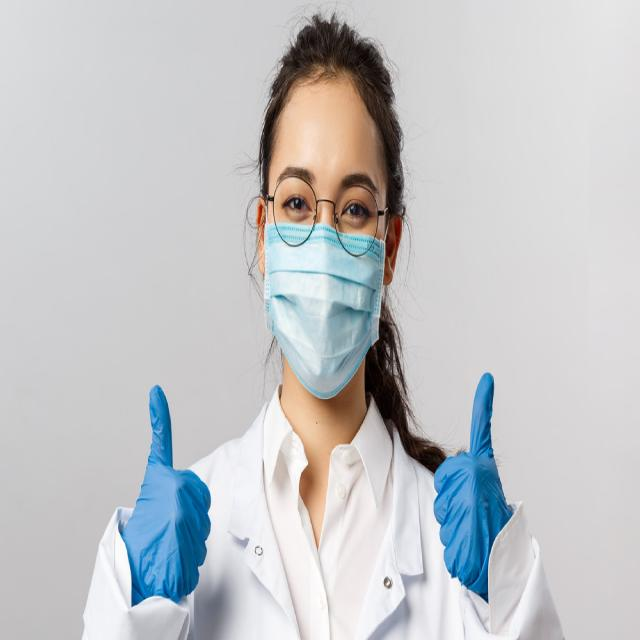gloves: (433, 367, 523, 612), (120, 378, 213, 602)
